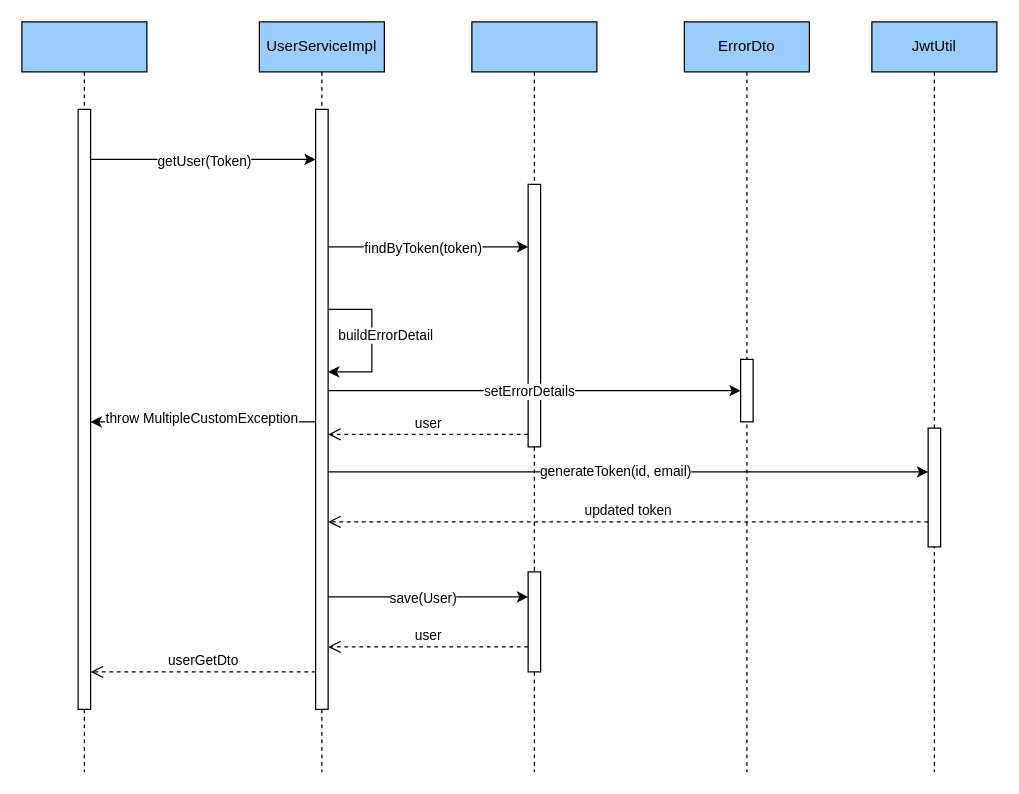
The diagram is 1019 pixels wide and 794 high, and some of its shapes have lost their labels. The box of each missing label's shape, as (x1, y1, x2, y2) in pixels:
Controller: (21, 21, 147, 772)
IUserRepository: (471, 21, 597, 772)
